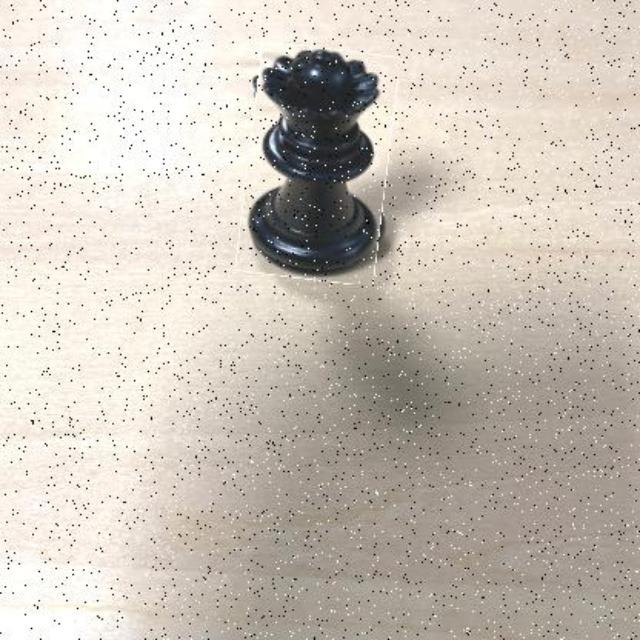black-queen: (242, 46, 394, 284)
